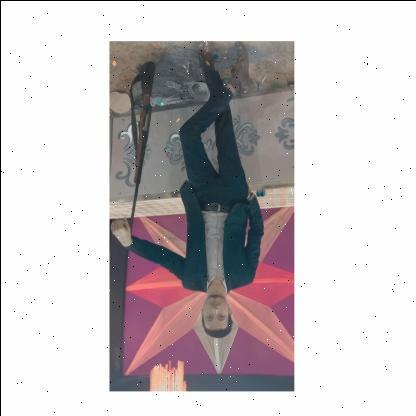rifle: (122, 59, 156, 239)
